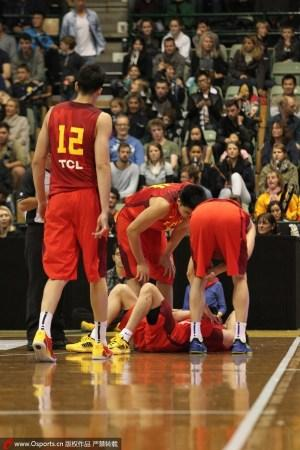bending: (107, 177, 211, 302), (182, 191, 258, 359)
down: (59, 281, 248, 368)
up: (29, 62, 118, 366)
